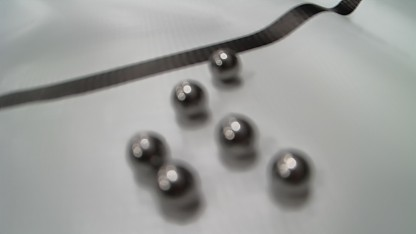ironball: (156, 162, 199, 208), (270, 150, 311, 195), (217, 114, 255, 157), (129, 132, 168, 173), (172, 80, 207, 117), (208, 48, 240, 81)
